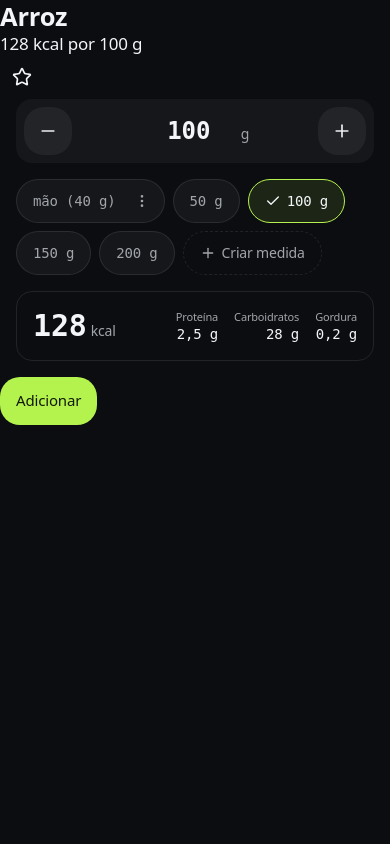
Test: PortionSheet household measures › in pt-BR › never inflects a personal label: "mão" stays "mão"
Click the button "mão (40 g)".
click(68, 201)  # box [17,180,120,222]
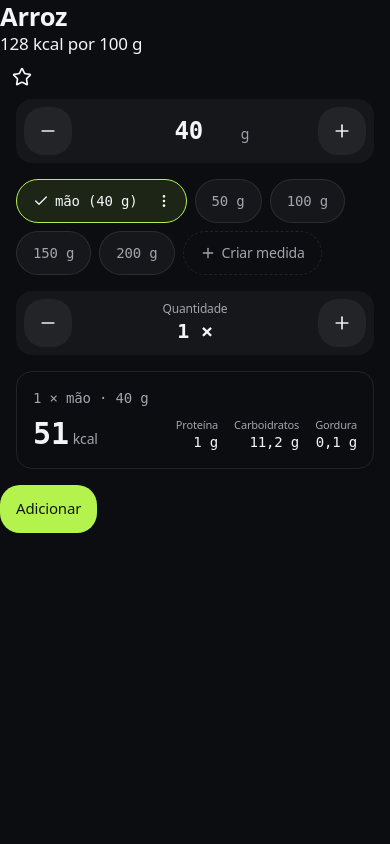
Expected: the text with test id "portion-measure" reads "1 × mão · 40 g", [33,390,149,406]
Click the button named "Meia medida a mais".
click(342, 323)  # box [318,299,366,347]
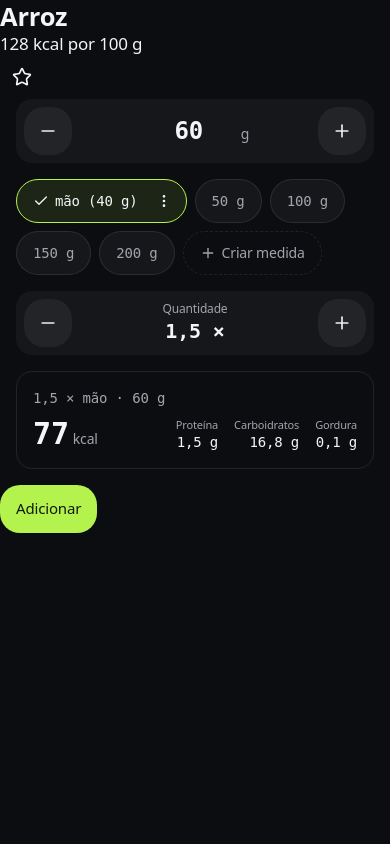
Click the button named "Meia medida a mais".
click(342, 323)  # box [318,299,366,347]
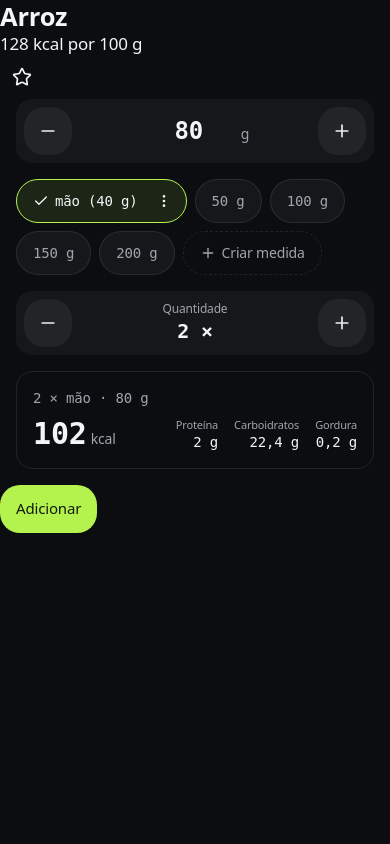
Expected: the text with test id "portion-measure" reads "2 × mão · 80 g", [33,390,149,406]
